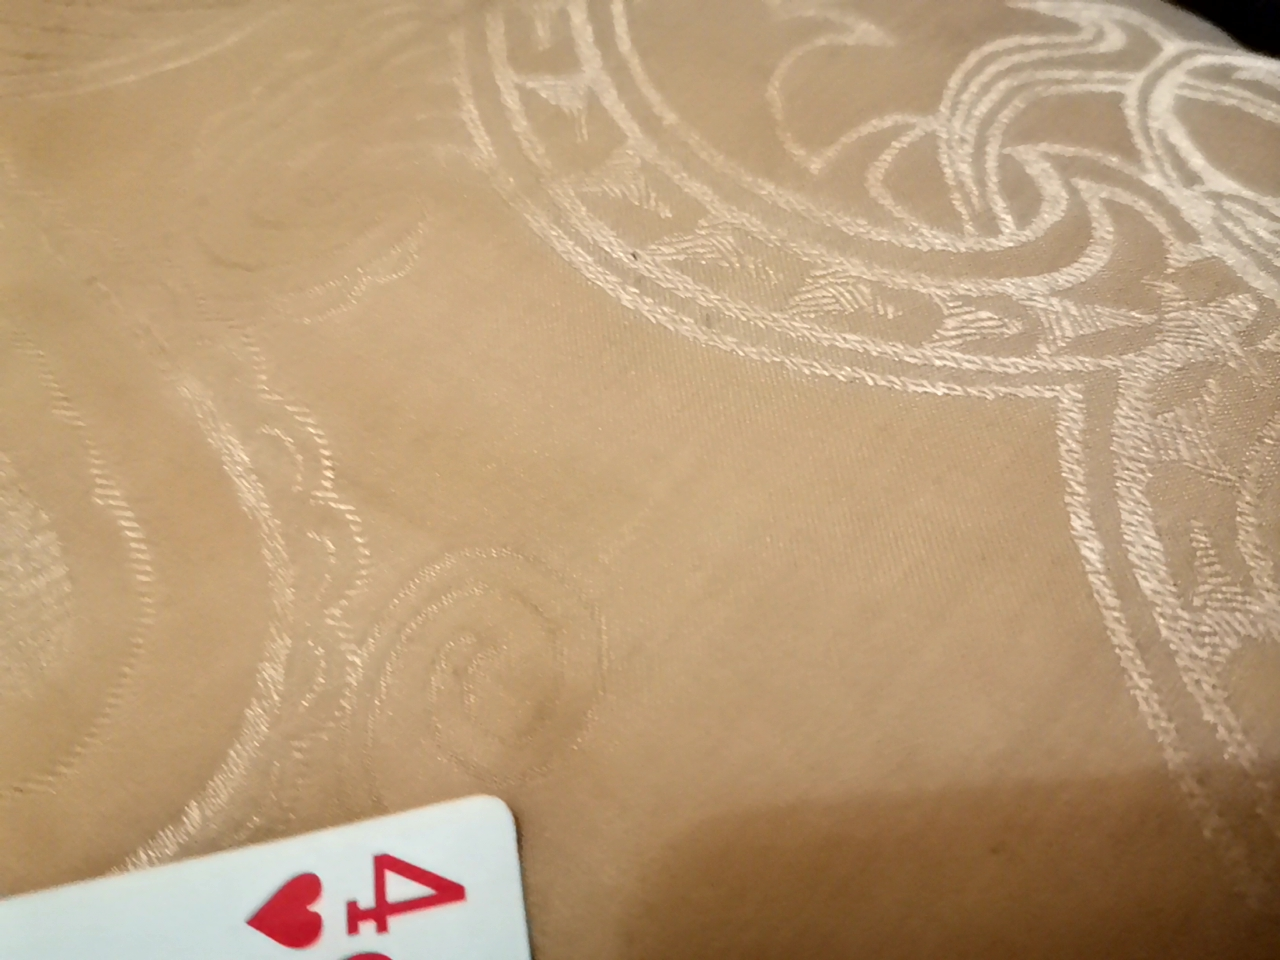hx 4: (0, 732, 716, 960)
